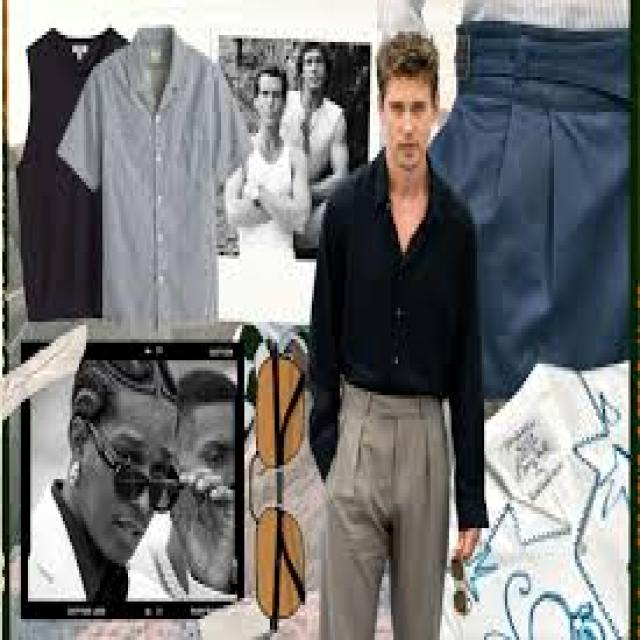face: (75, 434, 153, 566), (173, 494, 235, 587), (380, 77, 437, 171), (254, 74, 283, 125), (301, 49, 328, 90)
lower-wear: (431, 21, 630, 398), (319, 385, 449, 639)
top-wear: (310, 151, 486, 528), (59, 28, 251, 328), (17, 28, 125, 321)
